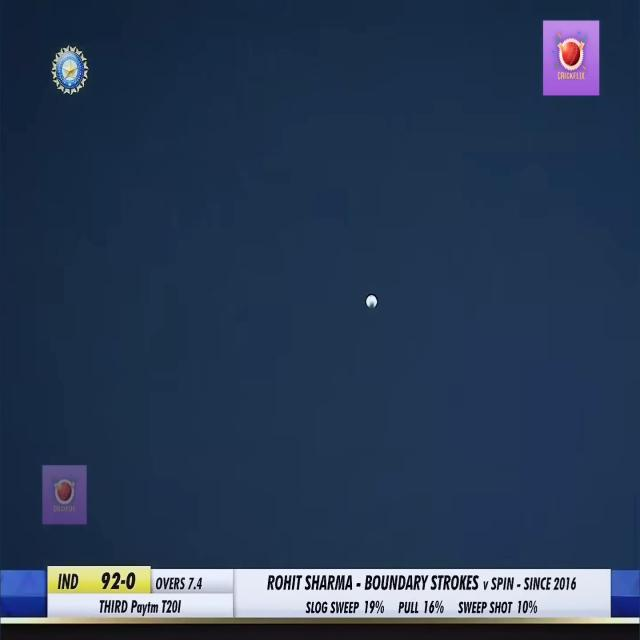fully_visible: (126, 598, 160, 620)
